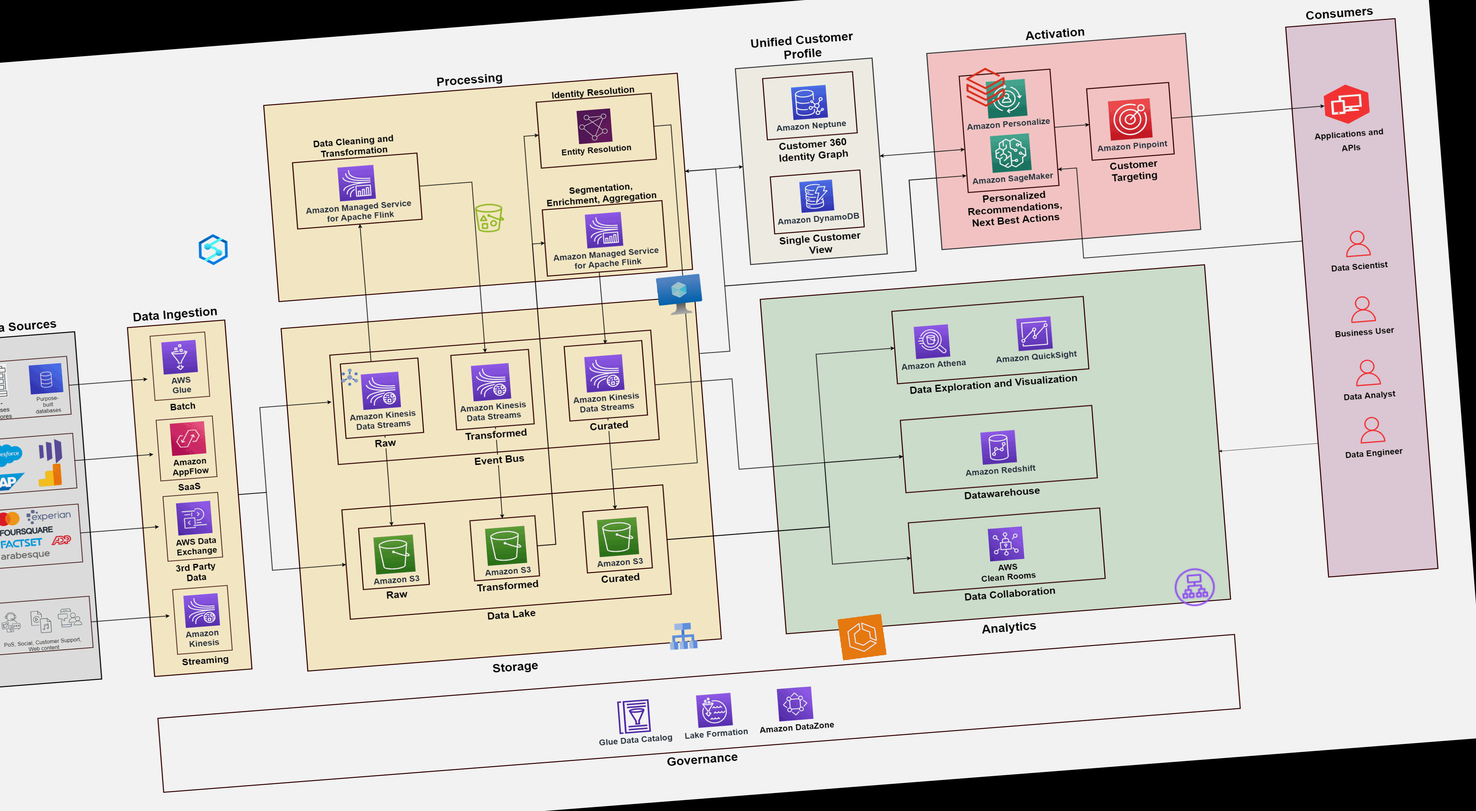aws_amazon_elastic_container_service: (837, 613, 887, 661)
aws_elastic_load_balancing_application_load_balancer: (1171, 564, 1218, 610)
aws_simple_storage_service_bucket_with_objects: (471, 200, 508, 236)
azure_databricks: (960, 63, 1010, 111)
azure_synapse_analytics: (194, 232, 232, 267)
azure_virtual_machine: (655, 273, 704, 319)
gcp_cloud_load_balancing: (665, 619, 701, 653)
gcp_pubsub: (337, 365, 362, 389)
